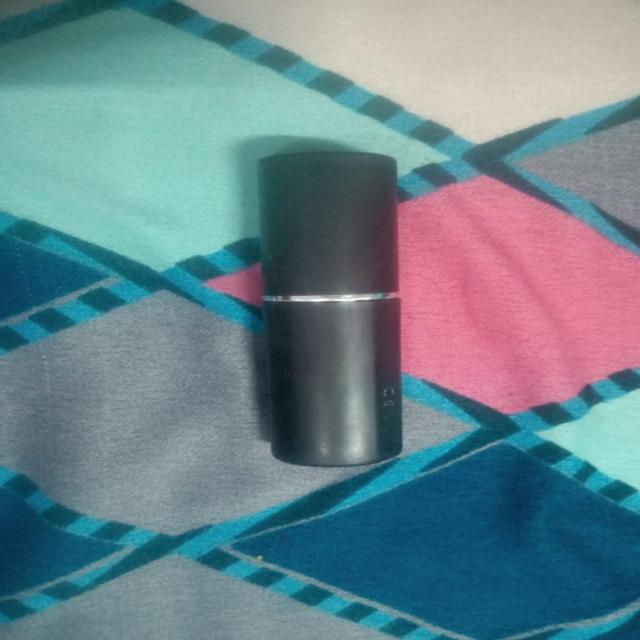lip stick: (217, 130, 433, 489)
